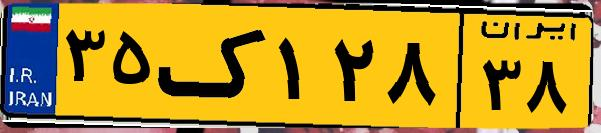1: (270, 28, 330, 110)
2: (330, 28, 385, 110)
3: (57, 26, 110, 100), (475, 38, 525, 113)
5: (110, 28, 158, 98)
8: (385, 28, 445, 110), (525, 38, 570, 115)
ک: (158, 12, 270, 120)
